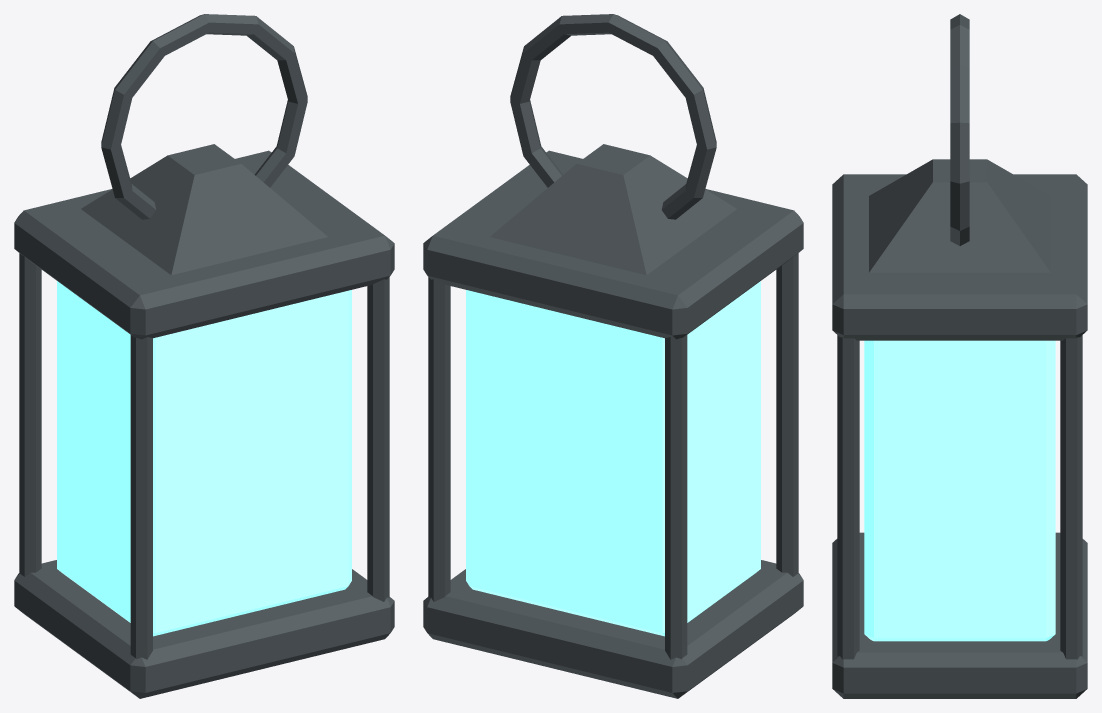
Rendered from Lantern_of_Departed_Souls.fbx.
The picture shows the model from 3 angles, left to right: view 1: azimuth 30°, elevation 25°; view 2: azimuth 150°, elevation 25°; view 3: azimuth 270°, elevation 25°; orthographic projection.
Visible parts, largest first — view 1: Lantern_Frame, Cap, Base, Roof, Handle, Post, Post.002, Post.001; view 2: Lantern_Frame, Cap, Base, Roof, Handle, Post.001, Post.003, Post; view 3: Lantern_Frame, Cap, Roof, Base, Post.002, Post.003, Handle.
Boxes of the visible parts, left/top/right/bottom form: Lantern_Frame: left=57, top=281, right=351, bottom=636; Cap: left=14, top=150, right=394, bottom=339; Base: left=14, top=560, right=394, bottom=698; Roof: left=81, top=144, right=327, bottom=275; Handle: left=101, top=14, right=307, bottom=219; Post: left=130, top=335, right=152, bottom=659; Post.002: left=367, top=277, right=389, bottom=601; Post.001: left=19, top=253, right=41, bottom=576; Lantern_Frame: left=466, top=281, right=760, bottom=636; Cap: left=423, top=150, right=803, bottom=339; Base: left=423, top=560, right=803, bottom=698; Roof: left=490, top=144, right=736, bottom=275; Handle: left=510, top=14, right=716, bottom=219; Post.001: left=665, top=335, right=687, bottom=659; Post.003: left=428, top=277, right=450, bottom=601; Post: left=776, top=253, right=798, bottom=576; Lantern_Frame: left=864, top=340, right=1055, bottom=641; Cap: left=832, top=174, right=1087, bottom=340; Roof: left=869, top=159, right=1050, bottom=272; Base: left=832, top=532, right=1087, bottom=698; Post.002: left=837, top=335, right=859, bottom=659; Post.003: left=1060, top=335, right=1082, bottom=659; Handle: left=950, top=14, right=969, bottom=245.
Bounding box in the file's own units: 96 × 213 × 80.
